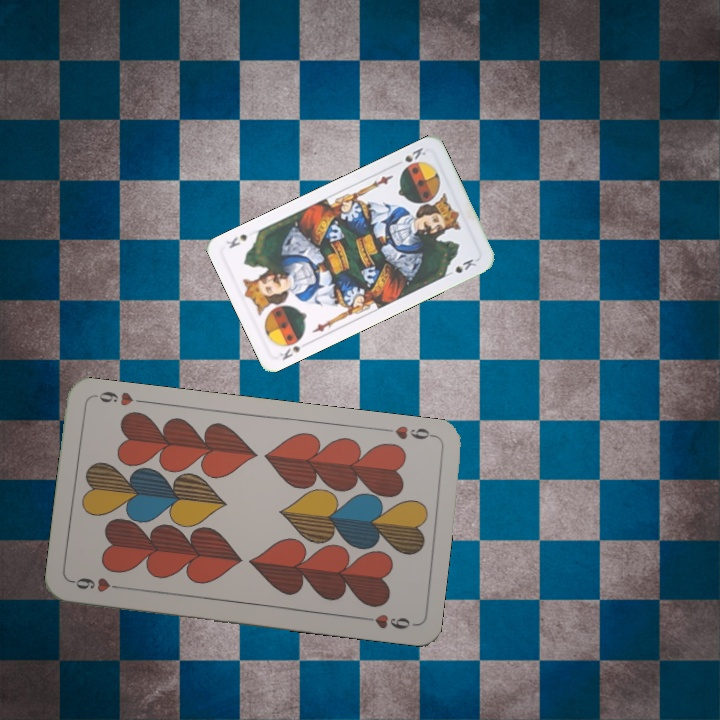H9: (69, 573, 128, 595), (379, 421, 438, 442)
SK: (275, 332, 312, 363), (400, 143, 428, 165)
